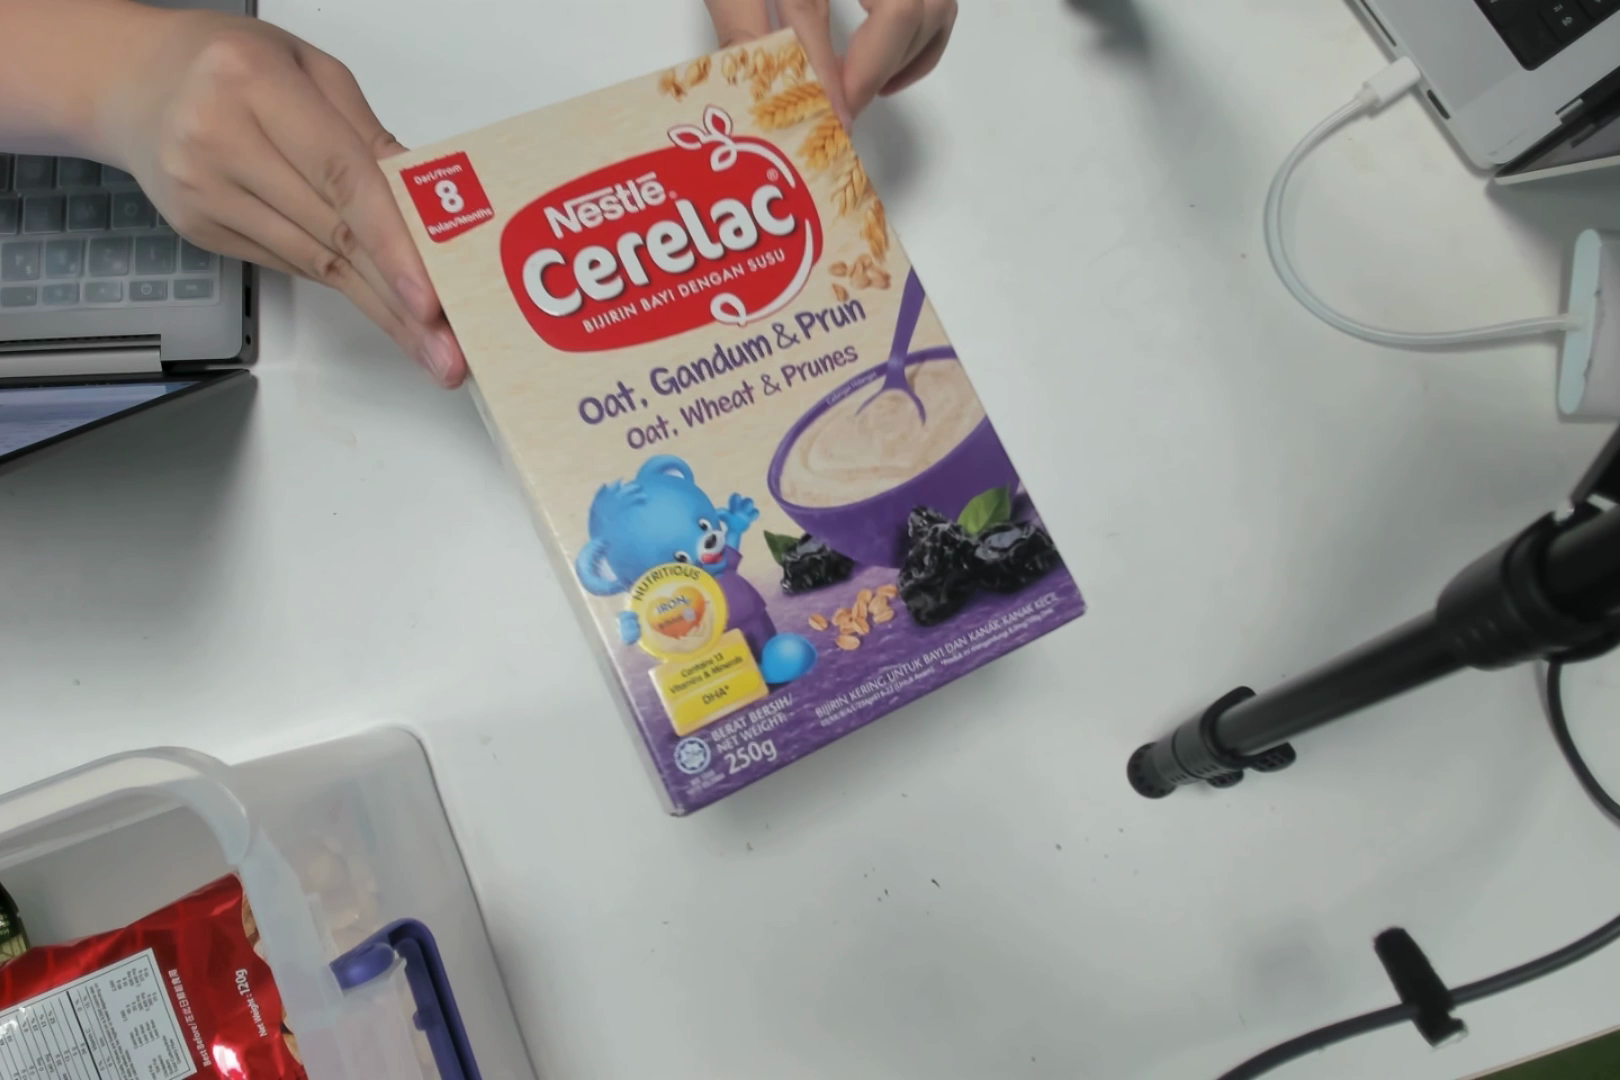d: (413, 148, 1078, 817)
